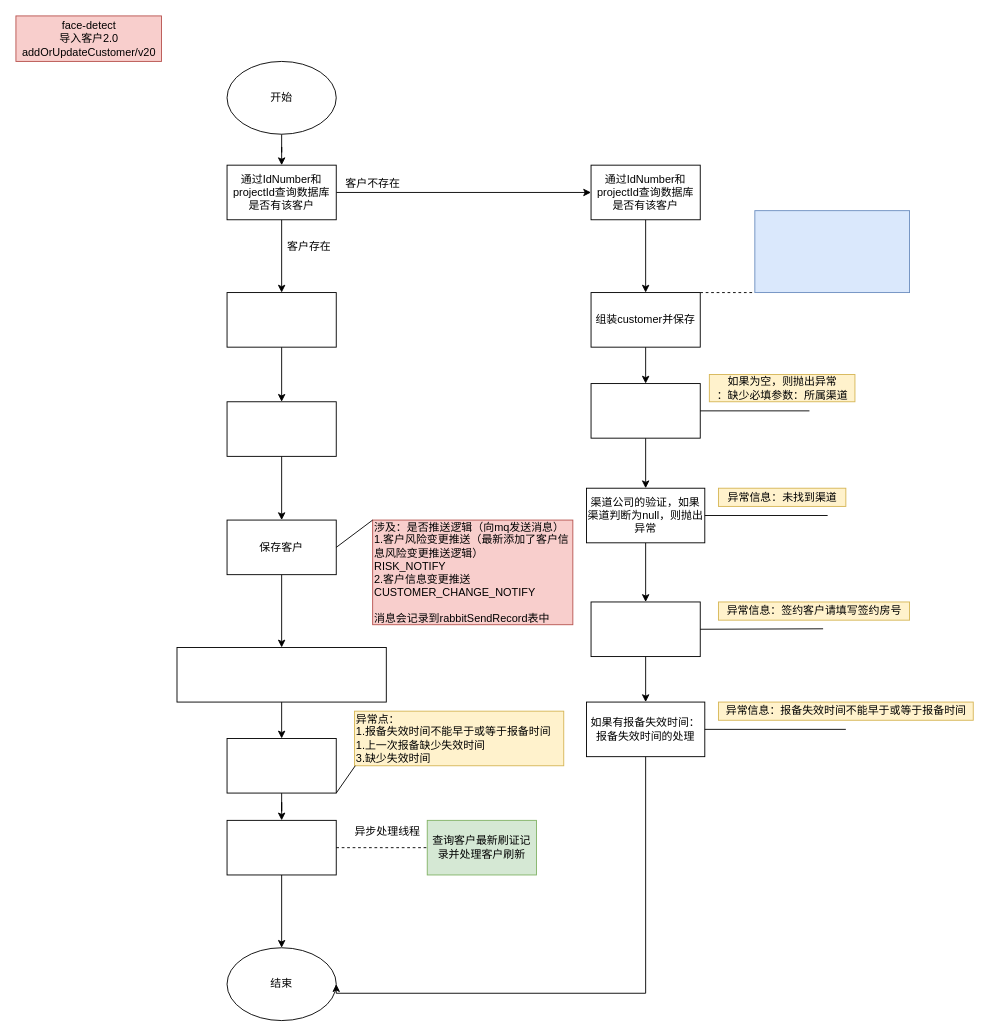
Some shapes in this 989 by 1036 pixel diagram are drawn without their labels. The centre of each missing label's shape, as x and y in pixels:
"优化点： 重复逻辑判断客户是否存在 注意：这里的逻辑可以将状态为delete的客户设置为正常" goes at point 832,251.
"如果客户为渠道type，需要判断渠道是否为空" goes at point 645,410.
"如果是已签约客户，签约房号的验证" goes at point 645,629.
"如果是更新客户操作，并且有属性的变化则记录到FaceDetectCustomerInfoModifiedRecord数据库中" goes at point 281,674.
"报备时间的相关处理" goes at point 281,765.
"是否可以编辑，如果不能编辑就抛出异常" goes at point 281,319.
"组装faceDetectCustomer" goes at point 281,428.
"页面编辑user如果有信息，需要记录操作日志到operateRecord数据库中" goes at point 281,847.
